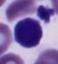L: (14, 18, 44, 48)
